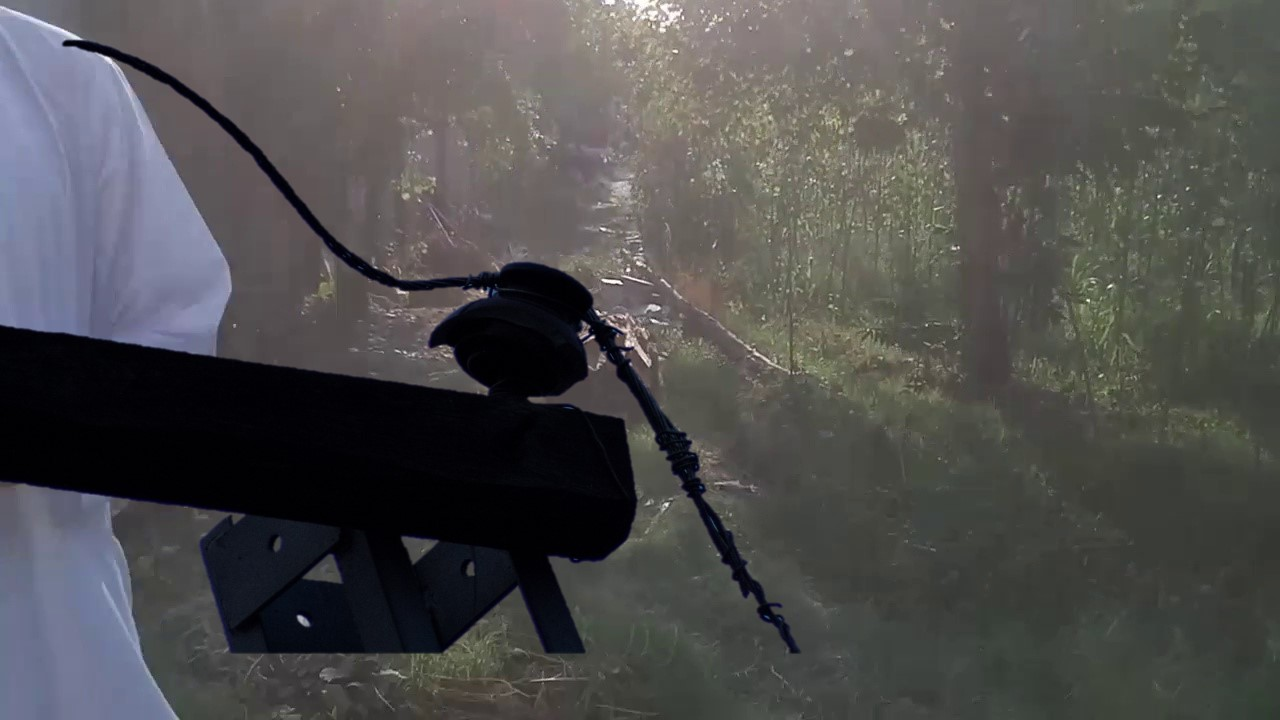defect_pin: (424, 257, 601, 403)
